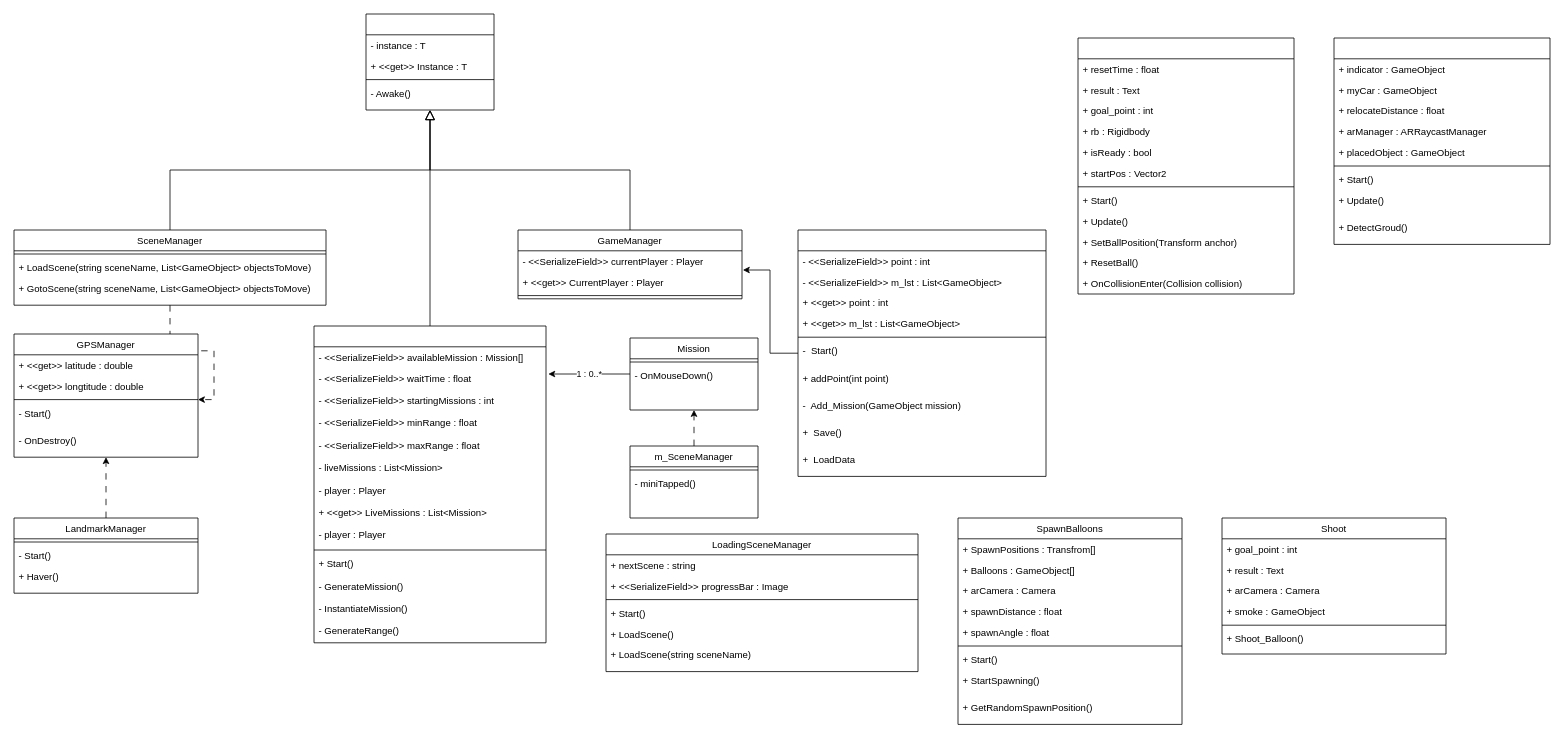
This 1564x741 diagram has some shape labels left out. The box of each missing label's shape, as (x1, y1, x2, y2) in pixels:
BallController: (1077, 37, 1294, 294)
c_manager: (1333, 37, 1550, 244)
m_Factory: (313, 325, 546, 643)
Player: (797, 229, 1046, 476)
Singleton: (365, 13, 494, 110)
